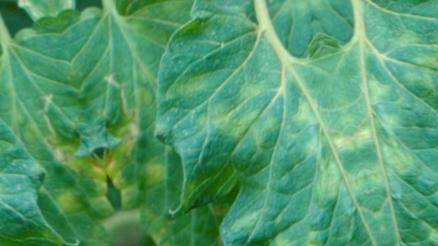Tomato mold leaf: (114, 0, 404, 246)
